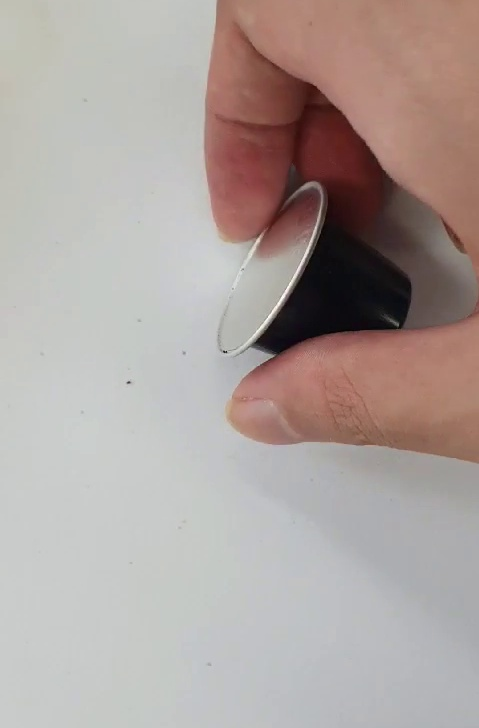capsule_1: (217, 177, 414, 362)
